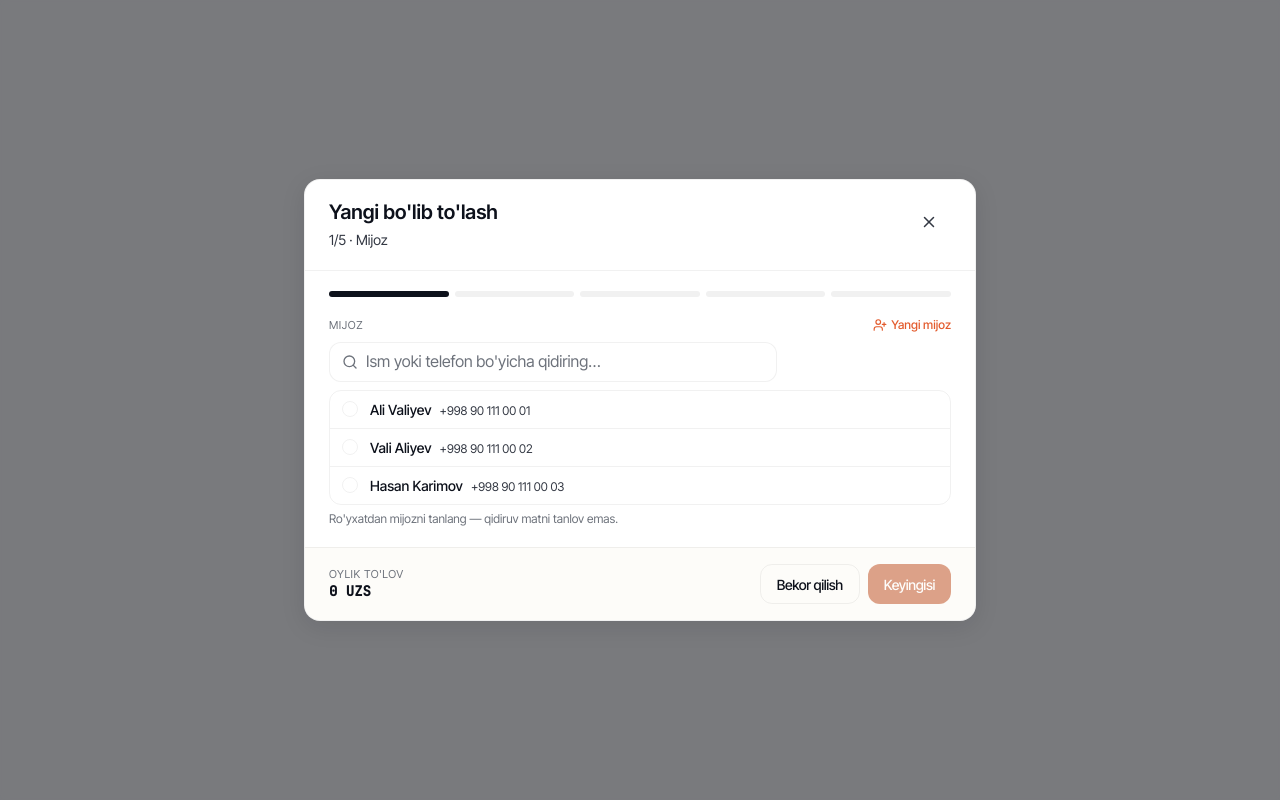
it: a stale selection cannot survive an edited query › editing the query drops the customer the shop can no longer see
The image size is (1280, 800).
Click the text "Ali Valiyev": (401, 409) x1=370 y1=400 x2=432 y2=418
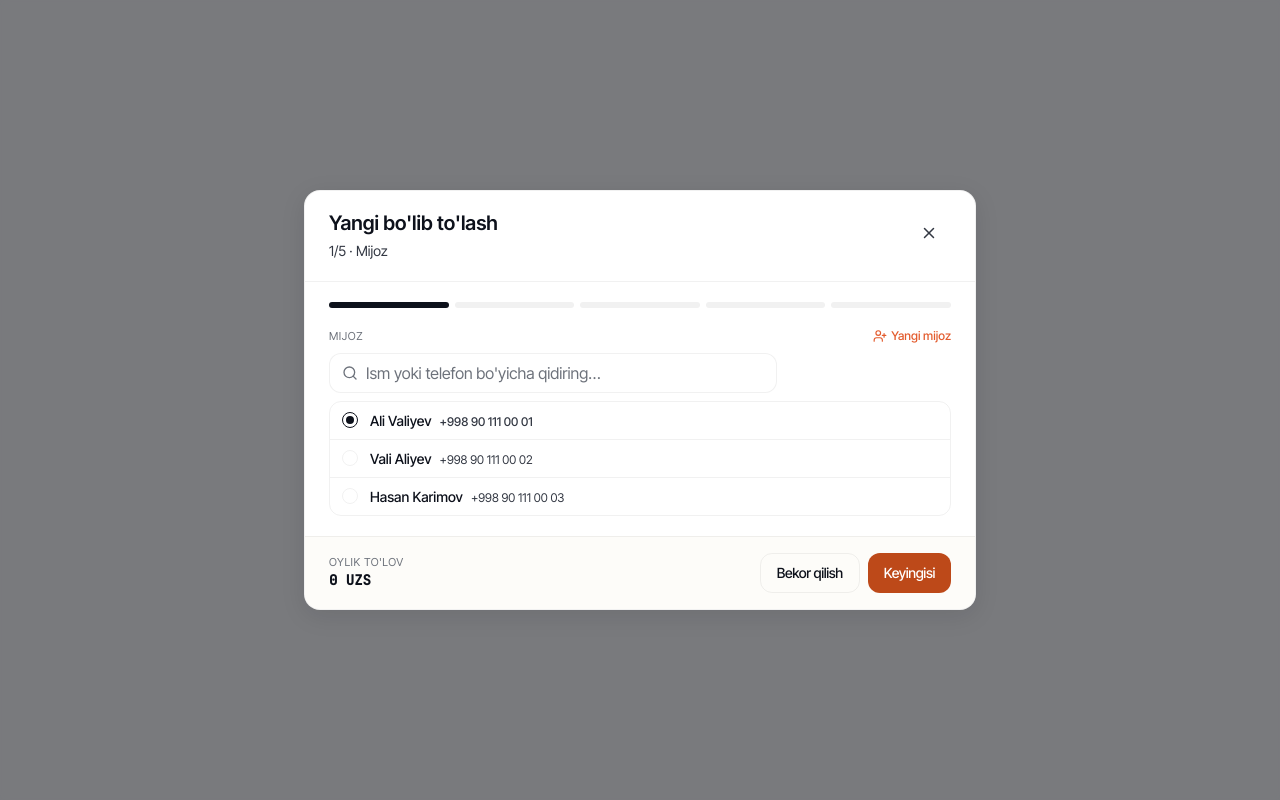
Expected: the button "Keyingisi" is enabled, x1=868 y1=553 x2=951 y2=593
In the dropdown with placeholder "Ism yoki telefon bo'yicha qidiring…": (565, 373) x1=366 y1=362 x2=764 y2=384, type "Vali"
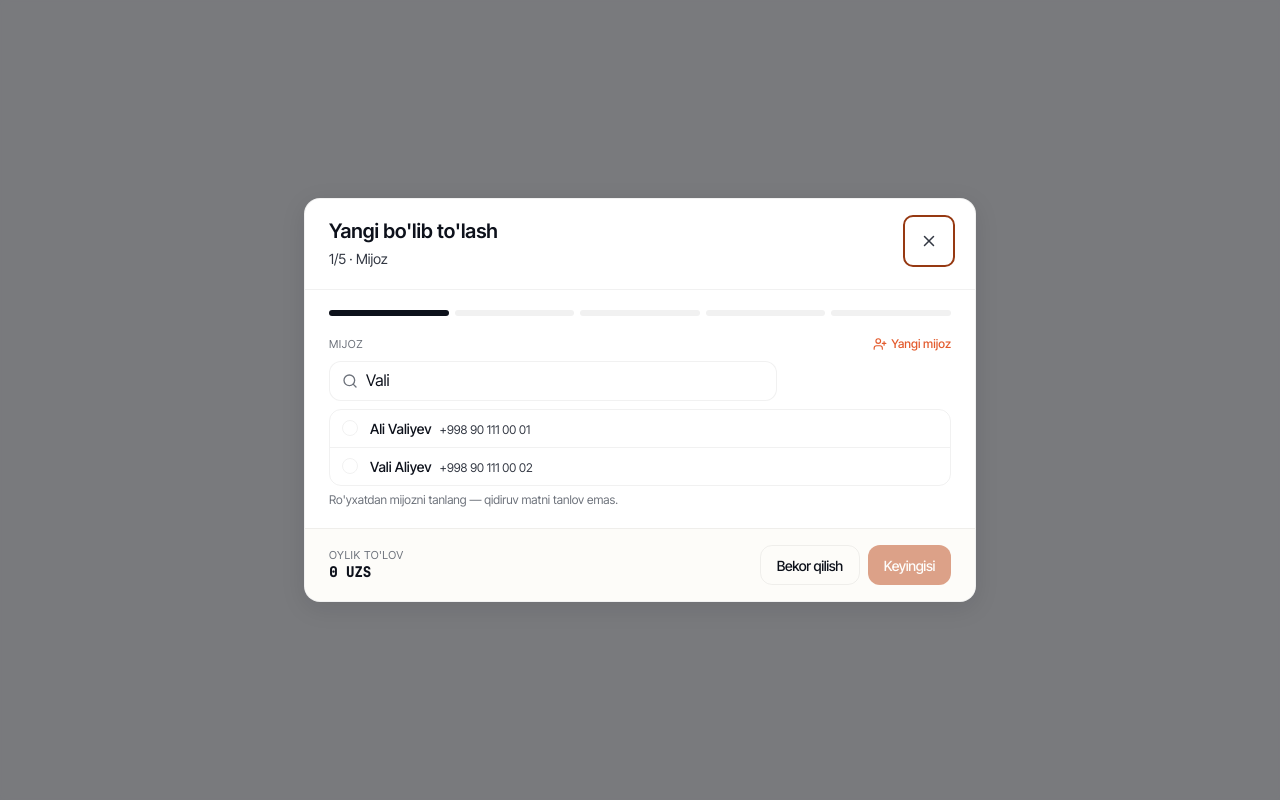
Expected: the button "Keyingisi" is disabled, x1=868 y1=545 x2=951 y2=585
